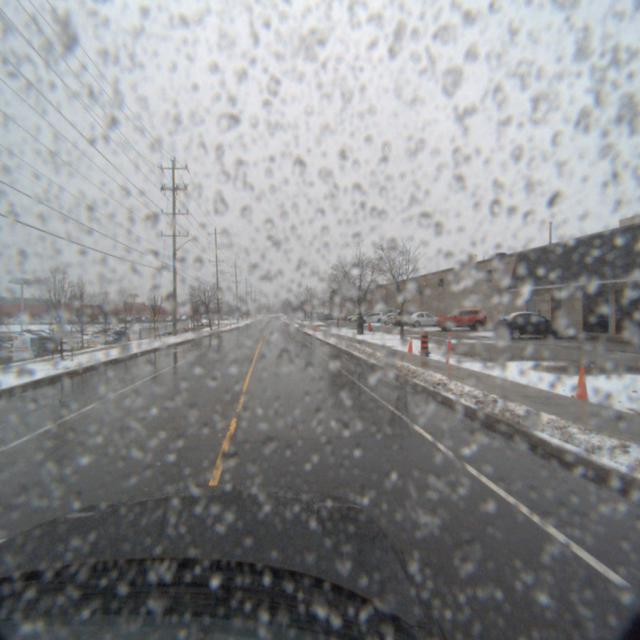Car: (486, 310, 570, 340), (428, 308, 486, 333), (386, 310, 426, 328), (400, 312, 442, 329), (354, 313, 381, 325)
